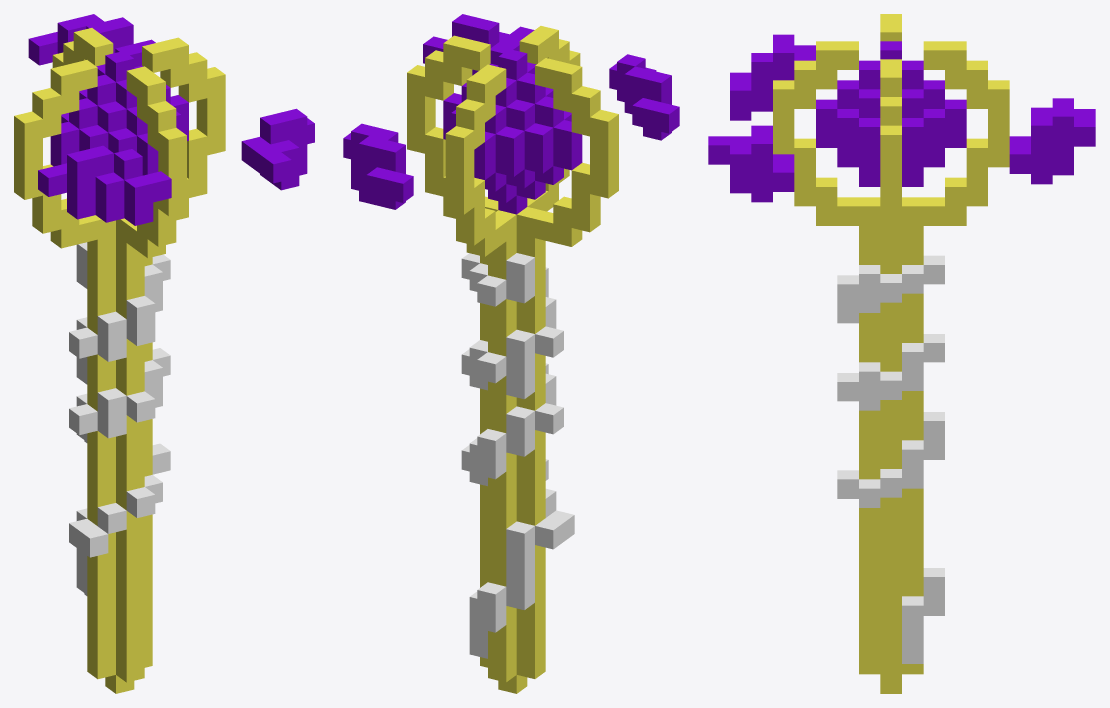
The model's file is orbs.gltf.
3 renders of one model, left to right at view 1: azimuth 30°, elevation 25°; view 2: azimuth 150°, elevation 25°; view 3: azimuth 270°, elevation 25°, orthographic. The views are drawn at different scales.
Visible parts, largest first — view 1: rod, power; view 2: rod, power; view 3: rod, power.
Part boxes in pixels (x1=…): rod: x1=14, y1=28, x2=225, y2=693; power: x1=28, y1=14, x2=314, y2=225; rod: x1=407, y1=26, x2=618, y2=693; power: x1=343, y1=14, x2=679, y2=214; rod: x1=773, y1=14, x2=1009, y2=693; power: x1=708, y1=34, x2=1095, y2=202.
Bounding box in the file's own units: 14 × 33 × 18.
Materials: 1 (1 with a texture image).
